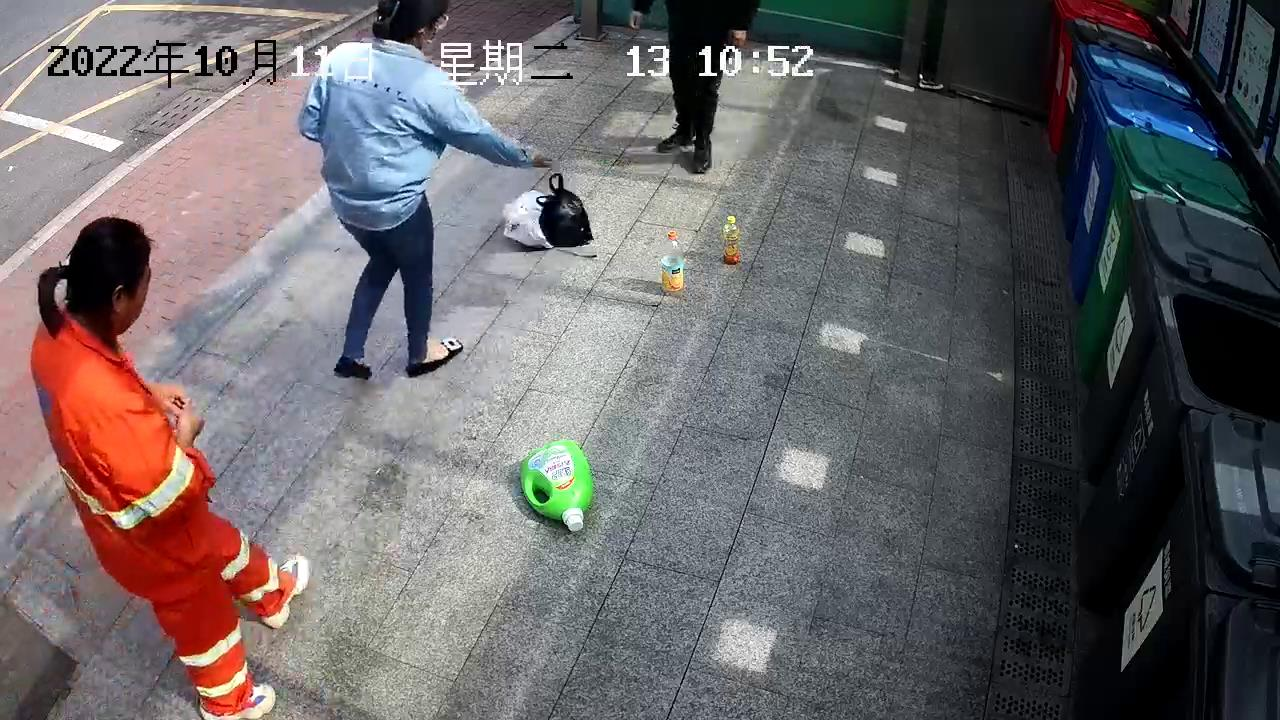garbage-bag: (500, 171, 594, 252)
suliaozhipin: (519, 437, 594, 536), (658, 227, 687, 301), (723, 213, 742, 267)
worker: (25, 214, 313, 720), (296, 1, 551, 384)
